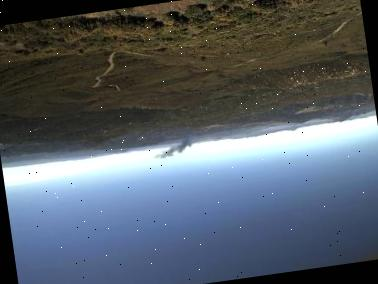smoke: (148, 135, 198, 166)
